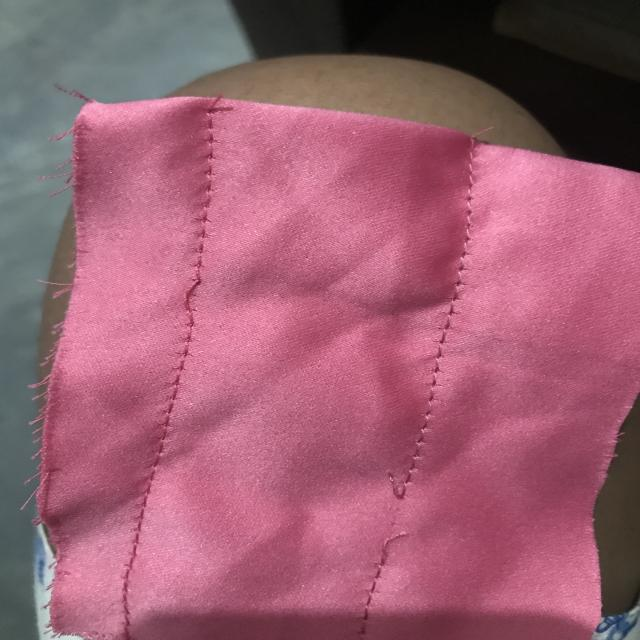broken: (368, 468, 440, 565)
good: (142, 394, 182, 502), (424, 321, 450, 425)
skip: (172, 259, 210, 340)
